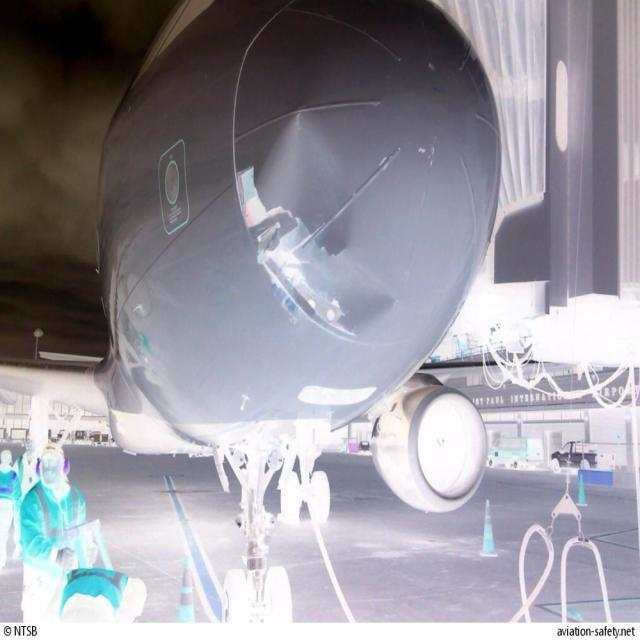dent: (256, 112, 349, 251), (314, 256, 396, 330)
